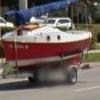Boat: (3, 12, 92, 77)
